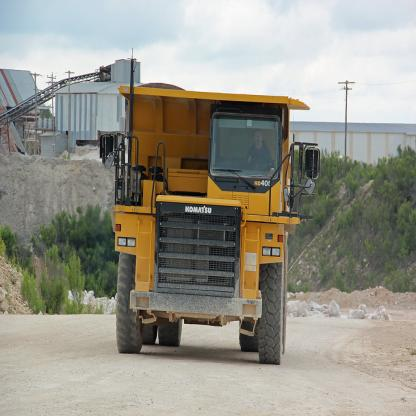dump_truck: (99, 77, 311, 368)
